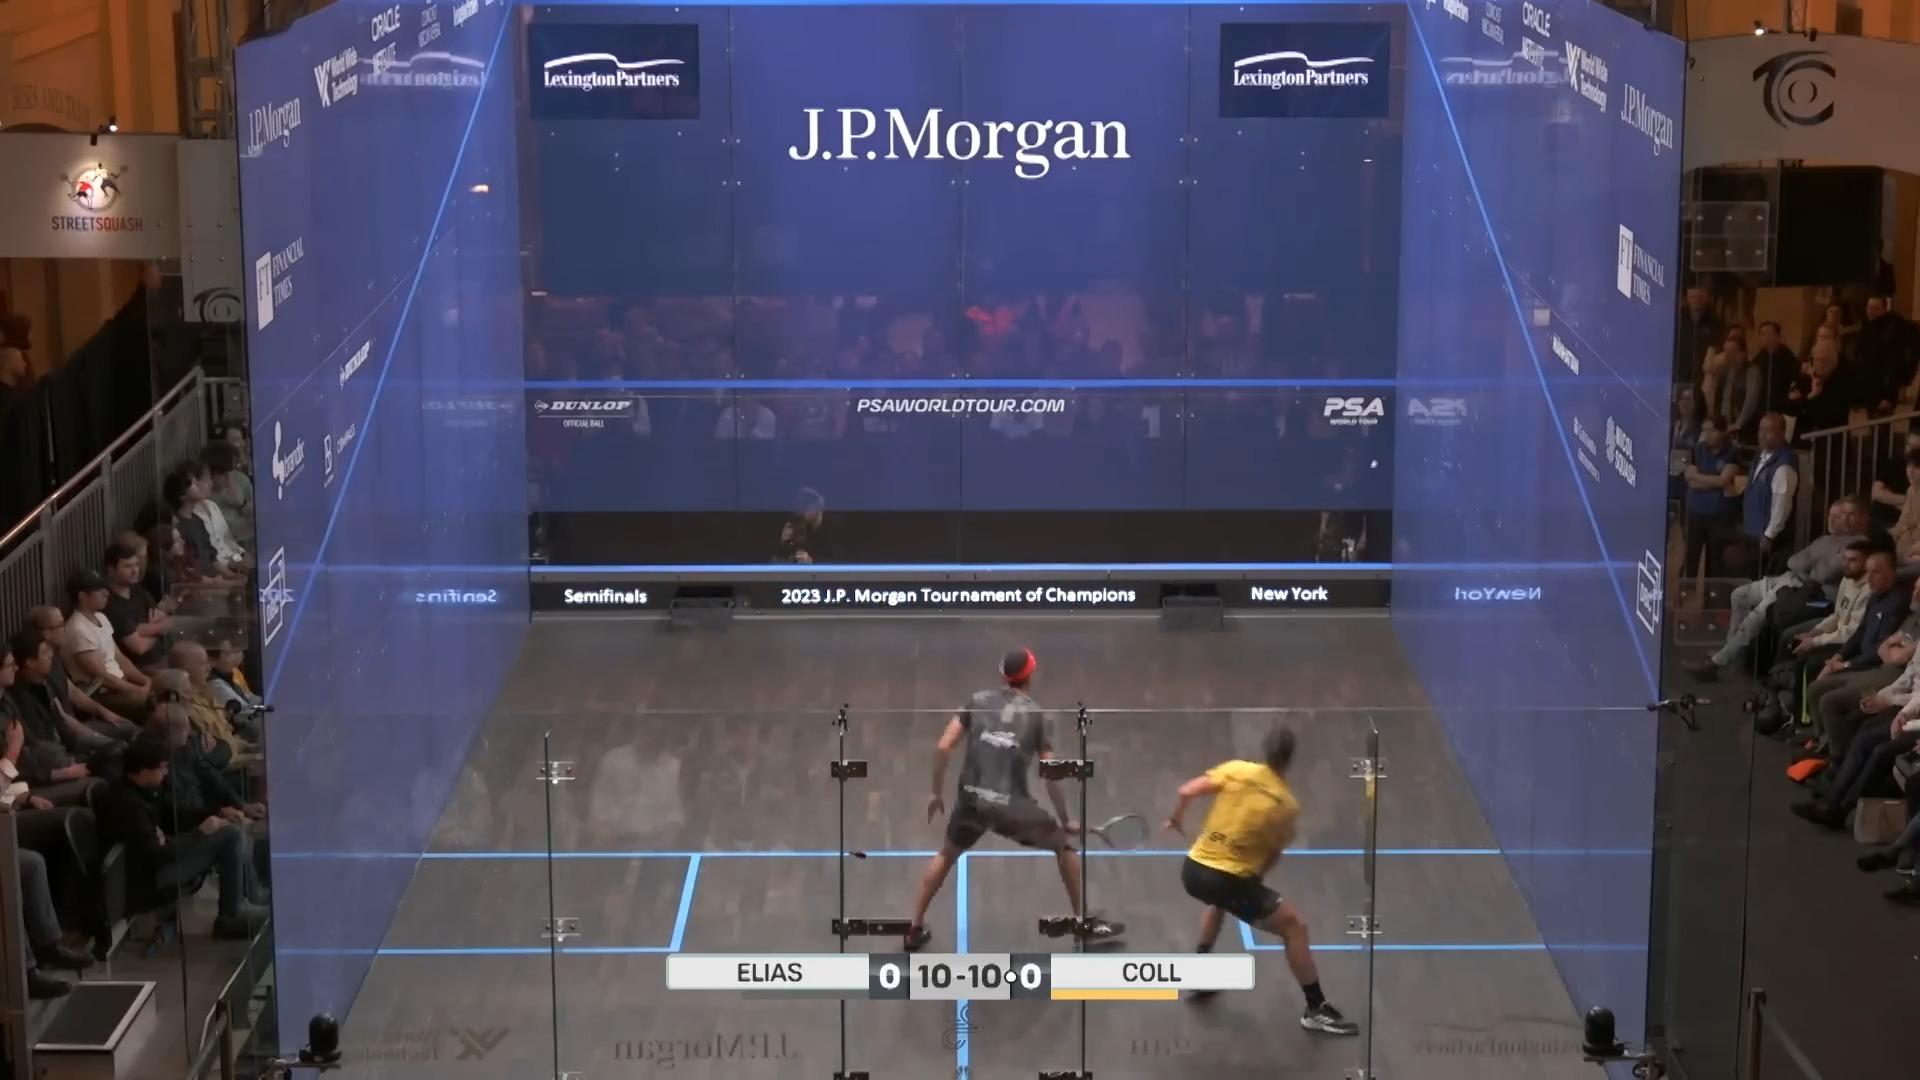Racket: (1075, 806, 1158, 861)
